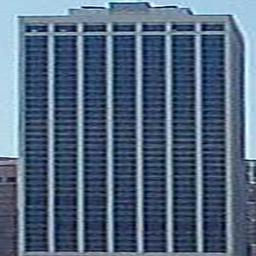building: (13, 0, 232, 255)
